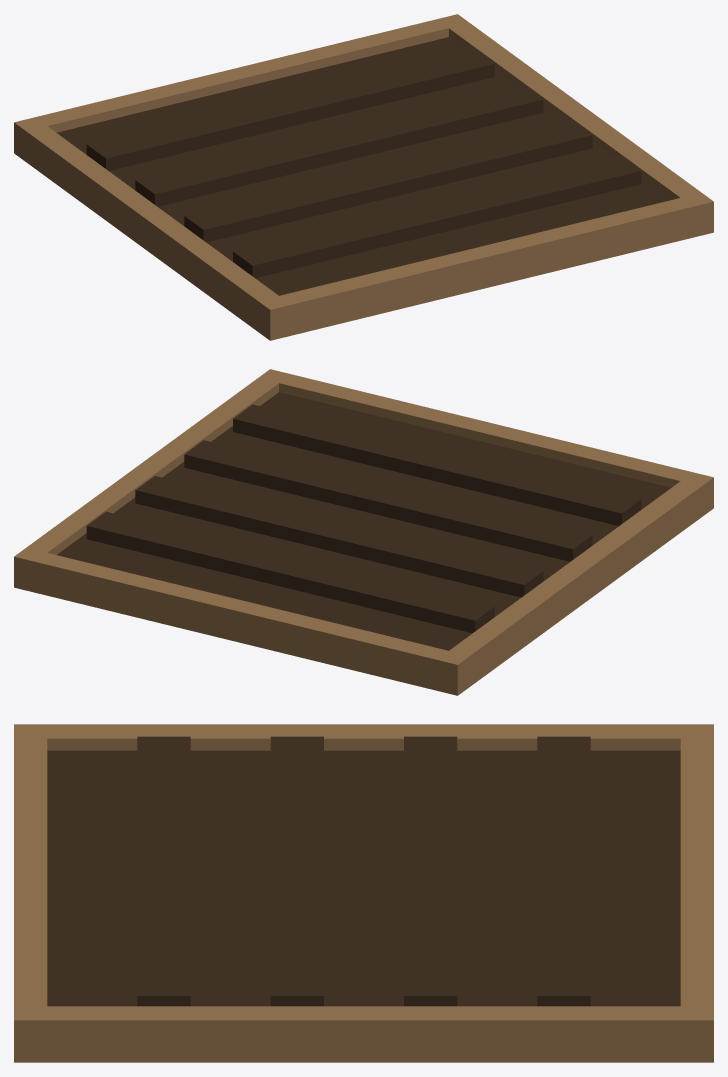
Rendered from soil_plot.glb.
The picture shows the model from 3 angles, top to bottom: view 1: azimuth 30°, elevation 25°; view 2: azimuth 150°, elevation 25°; view 3: azimuth 270°, elevation 25°; orthographic projection. The views are drawn at different scales.
Visible parts, largest first — view 1: soil_plot; view 2: soil_plot; view 3: soil_plot.
Part boxes in pixels (bbox=[...]): soil_plot: bbox=[14, 14, 713, 340]; soil_plot: bbox=[14, 369, 713, 695]; soil_plot: bbox=[14, 724, 713, 1062].
Size of what is drawn, in the model's own units: 2.1 by 0.16 by 2.1.
2 materials, 2 textured.
